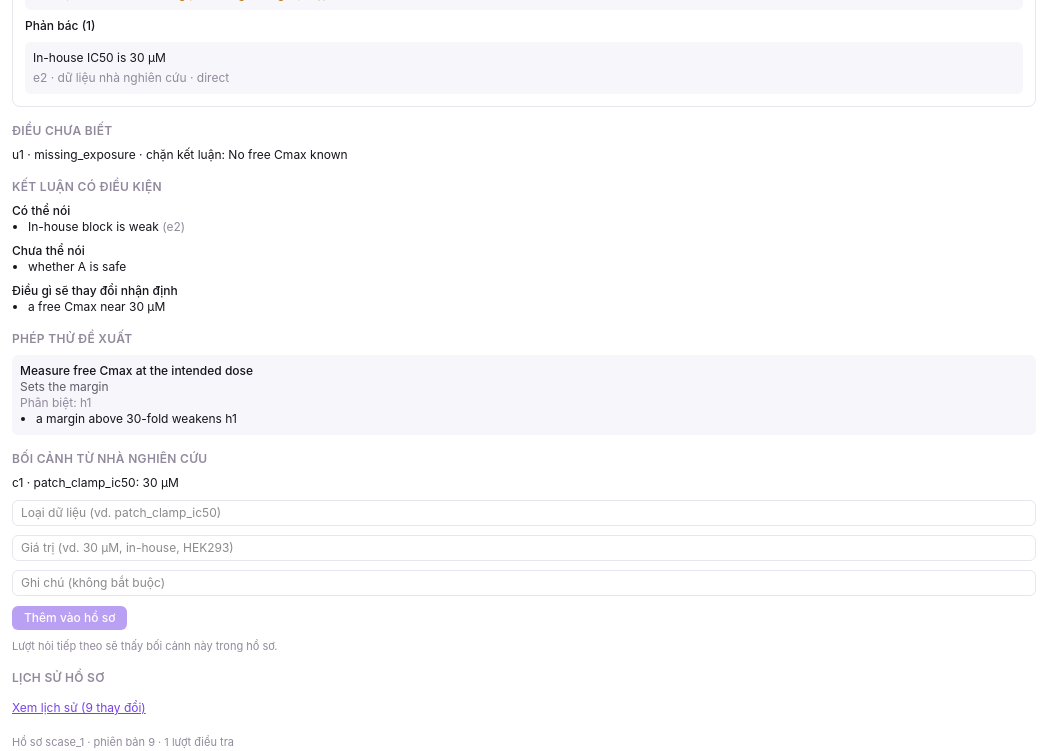
Test: InvestigationBoard › shows the case history, newest first, only when asked
The image size is (1048, 751).
(page scrolled)
Click the button "Xem lịch sử (9 thay đổi)". click: x=79, y=708
box: x1=12 y1=700 x2=146 y2=716
(page scrolled)
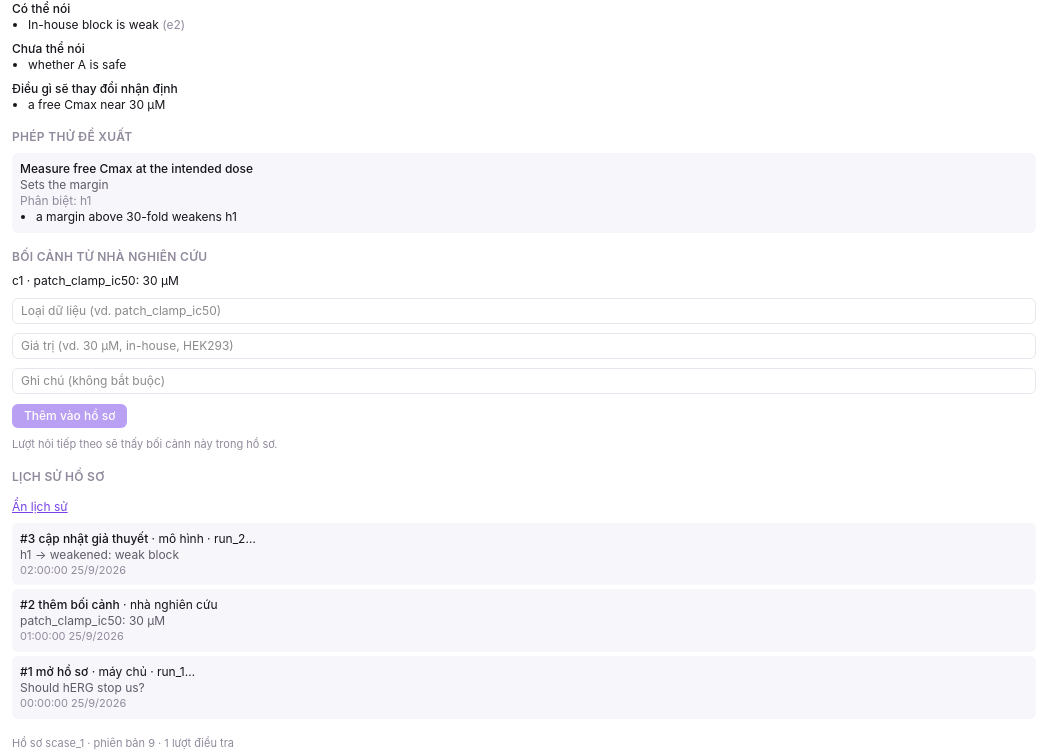
Result: the list item that starts with "cập nhật giả thuyết" shows "#3 cập nhật giả thuyết · mô hình" at x1=12 y1=523 x2=1036 y2=585
Result: the list item that starts with "cập nhật giả thuyết" shows "h1 → weakened: weak block" at x1=20 y1=547 x2=179 y2=562
Result: the list item that starts with "thêm bối cảnh" shows "#2 thêm bối cảnh · nhà nghiên cứu" at x1=12 y1=589 x2=1036 y2=652
